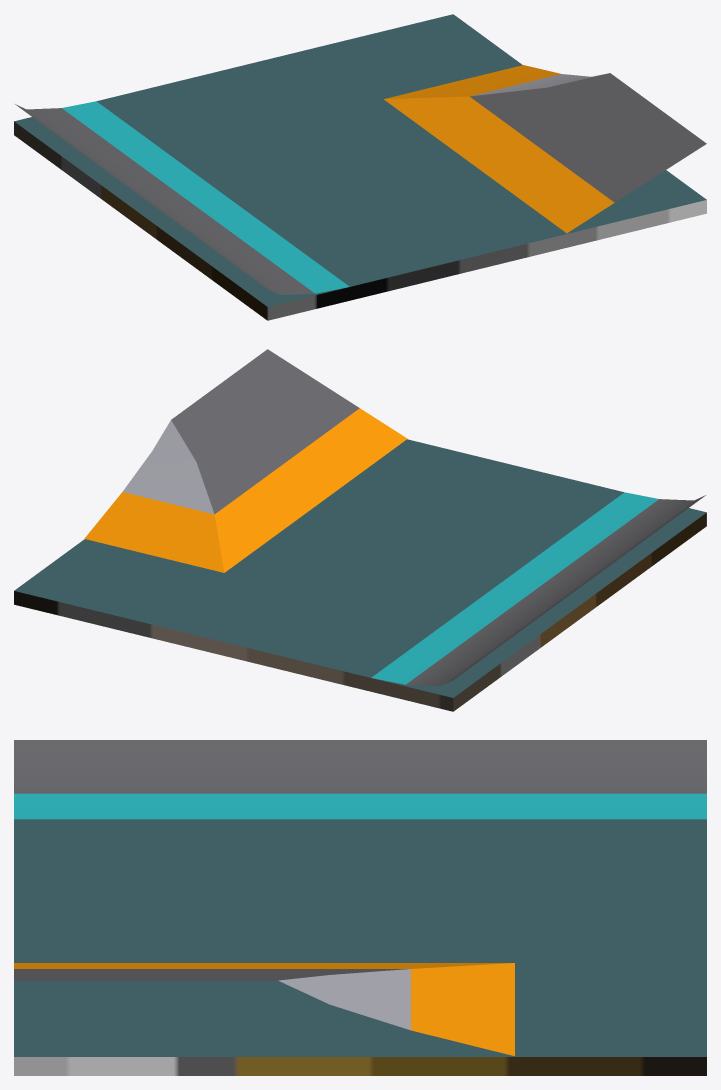
The model's file is tile_1_0_3.gltf.
The picture shows the model from 3 angles, top to bottom: view 1: azimuth 30°, elevation 25°; view 2: azimuth 150°, elevation 25°; view 3: azimuth 270°, elevation 25°; orthographic projection. The views are drawn at different scales.
Visible parts, largest first — view 1: ground, ramp.rectangular.02, pipe.west.001; view 2: ground, ramp.rectangular.02, pipe.west.001; view 3: ground, pipe.west.001, ramp.rectangular.02.
Boxes of the visible parts, x1,y1,x2,y2 form: ground: [14, 14, 706, 320]; ramp.rectangular.02: [384, 65, 706, 233]; pipe.west.001: [15, 101, 349, 294]; ground: [14, 439, 706, 711]; ramp.rectangular.02: [84, 349, 407, 572]; pipe.west.001: [371, 492, 705, 685]; ground: [14, 819, 706, 1075]; pipe.west.001: [14, 740, 706, 819]; ramp.rectangular.02: [14, 963, 514, 1056].
Size of what is drawn, in the model's own units: 8 by 1.22 by 8.
Materials: 2 (2 with a texture image).
